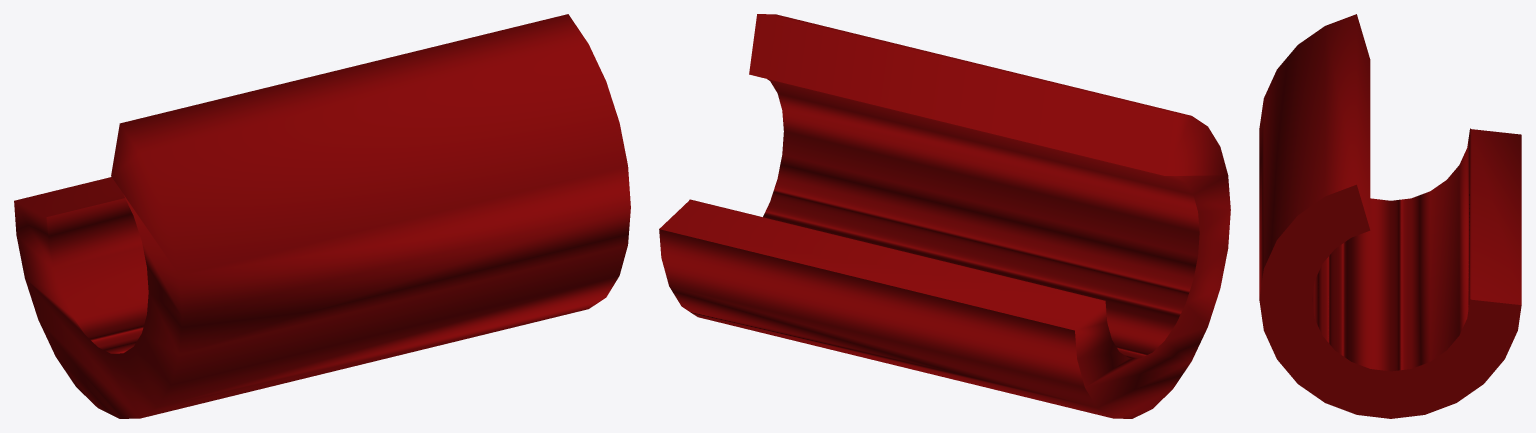
File: original-22.obj
3 views of the same model, side by side, from view 1: azimuth 30°, elevation 25°; view 2: azimuth 150°, elevation 25°; view 3: azimuth 270°, elevation 25° (orthographic). The views are drawn at different scales.
Visible parts, largest first — view 1: Group11/mesh12/mesh12-geometry#mesh12-geometry; view 2: Group11/mesh12/mesh12-geometry#mesh12-geometry; view 3: Group11/mesh12/mesh12-geometry#mesh12-geometry.
Part boxes in pixels (x1,y1,x2,y2): Group11/mesh12/mesh12-geometry#mesh12-geometry: (14,14,630,418); Group11/mesh12/mesh12-geometry#mesh12-geometry: (659,14,1230,418); Group11/mesh12/mesh12-geometry#mesh12-geometry: (1259,14,1521,418).
Size of the model in its own units: 0.0124 by 0.00796 by 0.00807.
